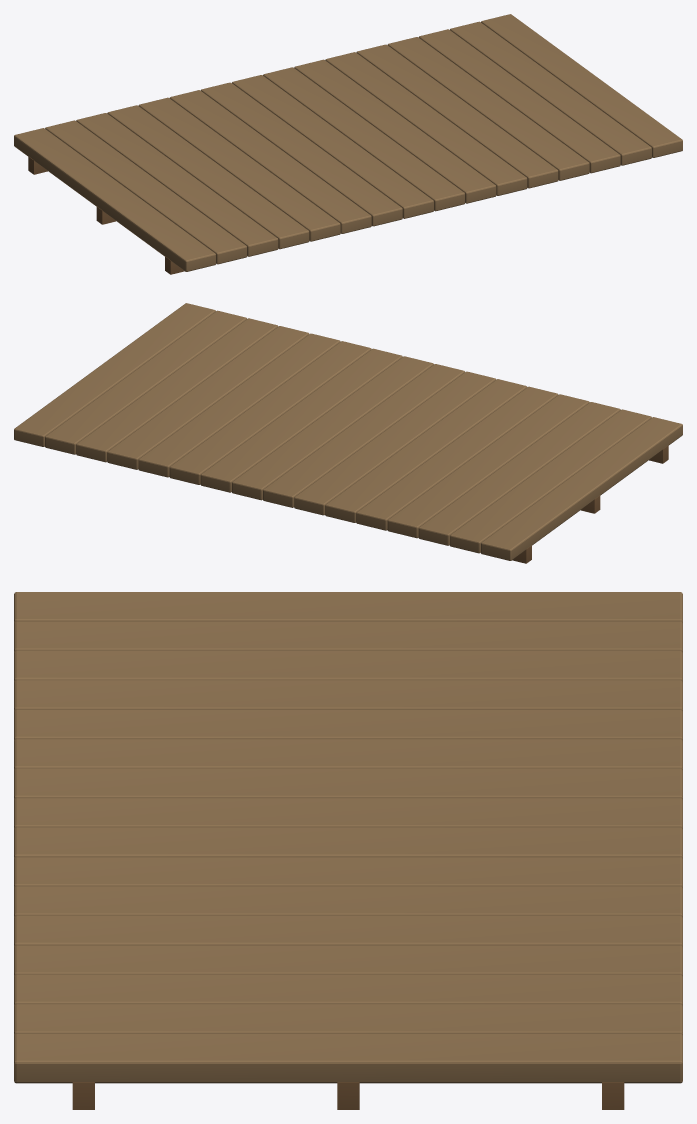
Rendered from split_board_deck.glb.
3 views of the same model, one above another, from view 1: azimuth 30°, elevation 25°; view 2: azimuth 150°, elevation 25°; view 3: azimuth 270°, elevation 25° (orthographic). The views are drawn at different scales.
Visible parts, largest first — view 1: split_board_deck_painted_export; view 2: split_board_deck_painted_export; view 3: split_board_deck_painted_export.
Boxes of the visible parts, left/top/right/bottom form: split_board_deck_painted_export: left=14, top=14, right=682, bottom=274; split_board_deck_painted_export: left=14, top=303, right=682, bottom=563; split_board_deck_painted_export: left=14, top=592, right=682, bottom=1109.
Size of the model in its own units: 8 by 0.38 by 4.8.
